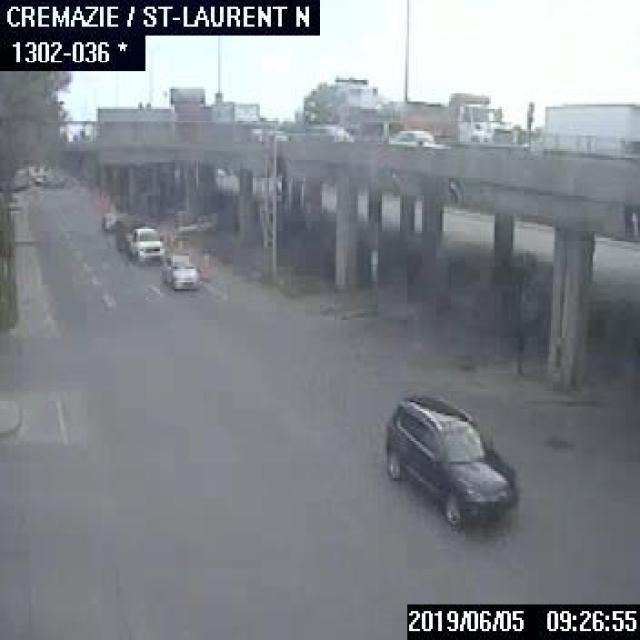vehicle: (382, 389, 522, 527), (386, 84, 516, 146), (540, 98, 638, 153), (112, 210, 164, 263), (160, 250, 198, 289), (386, 128, 440, 146), (100, 209, 115, 231)
